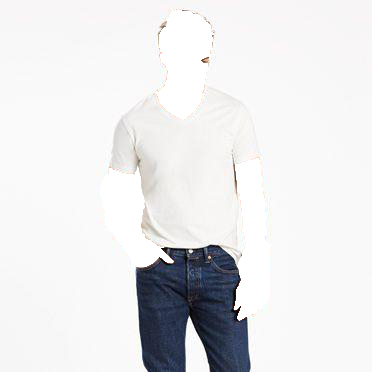teeshirt: (108, 82, 264, 264)
